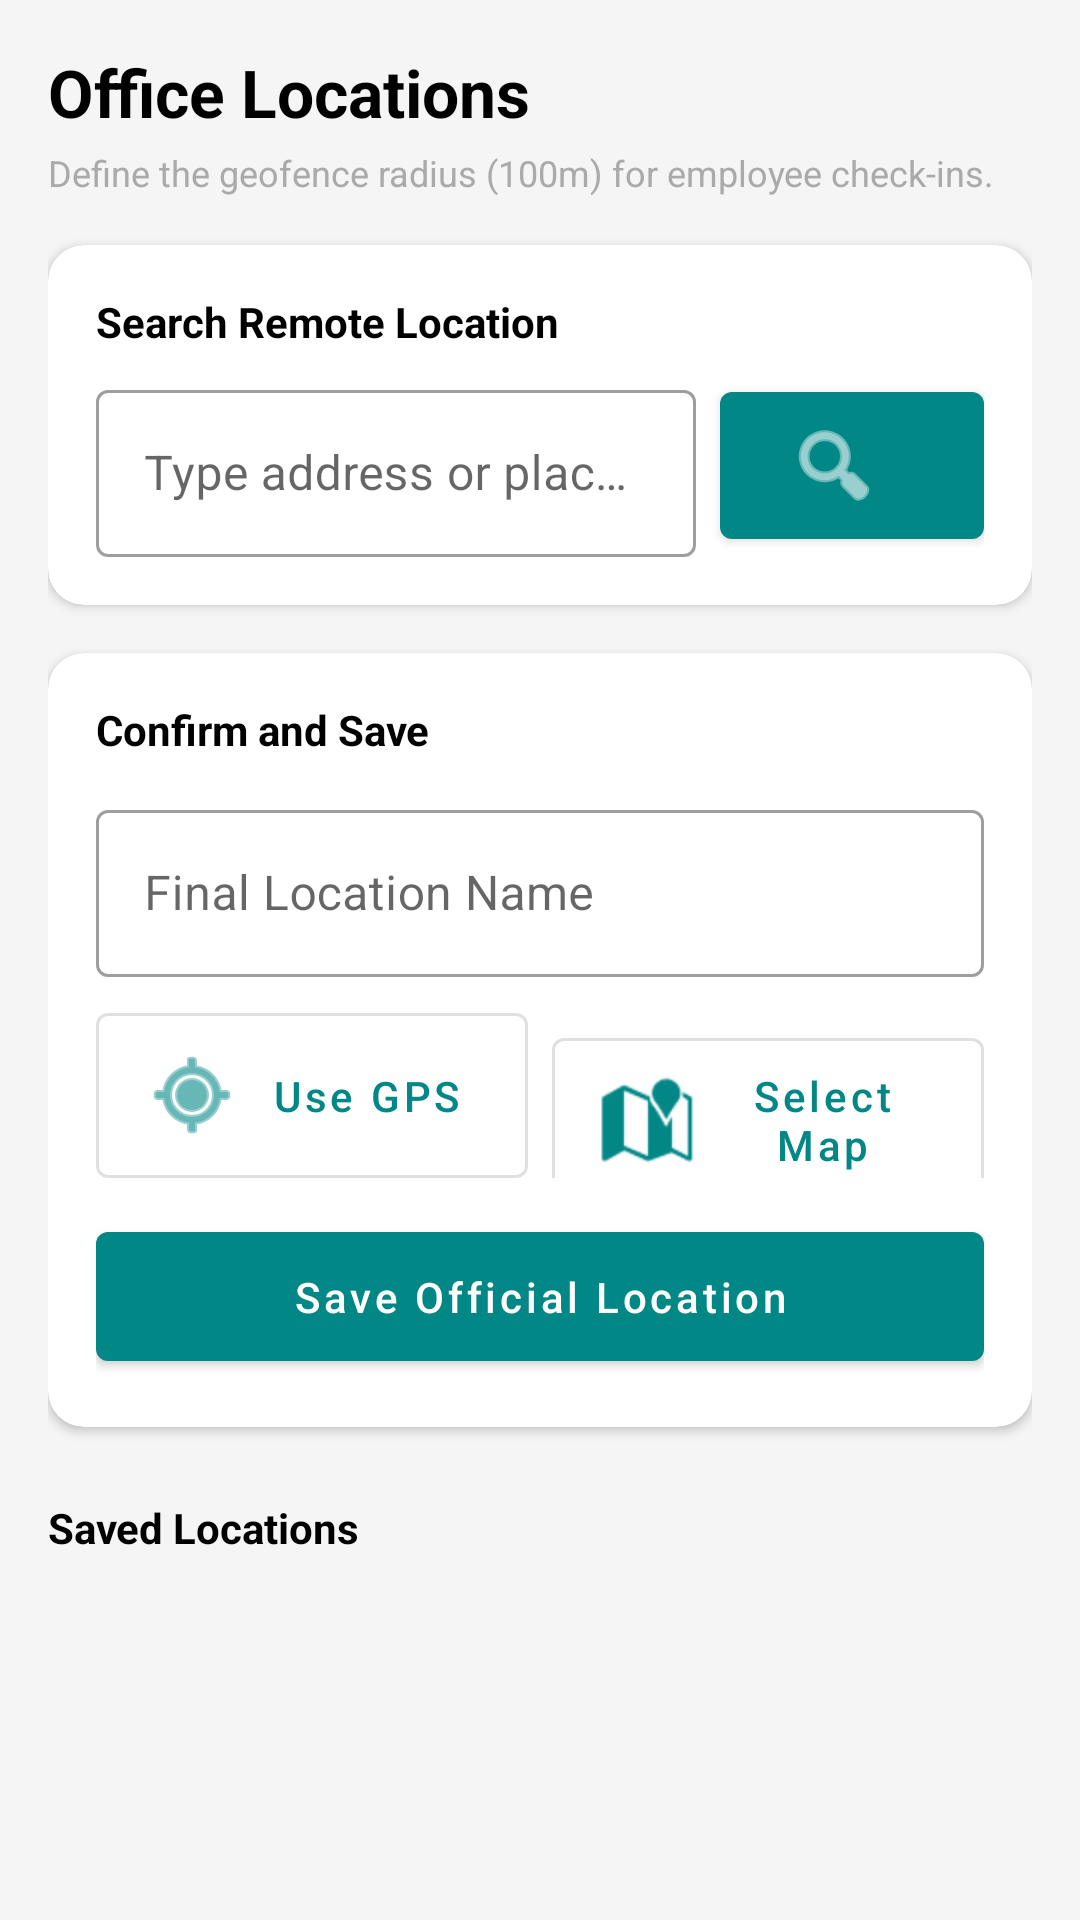

Point at icon controls on the screen. Image size 1080 x 1920, points as (x=x, y=y).
search: (x=852, y=465)
